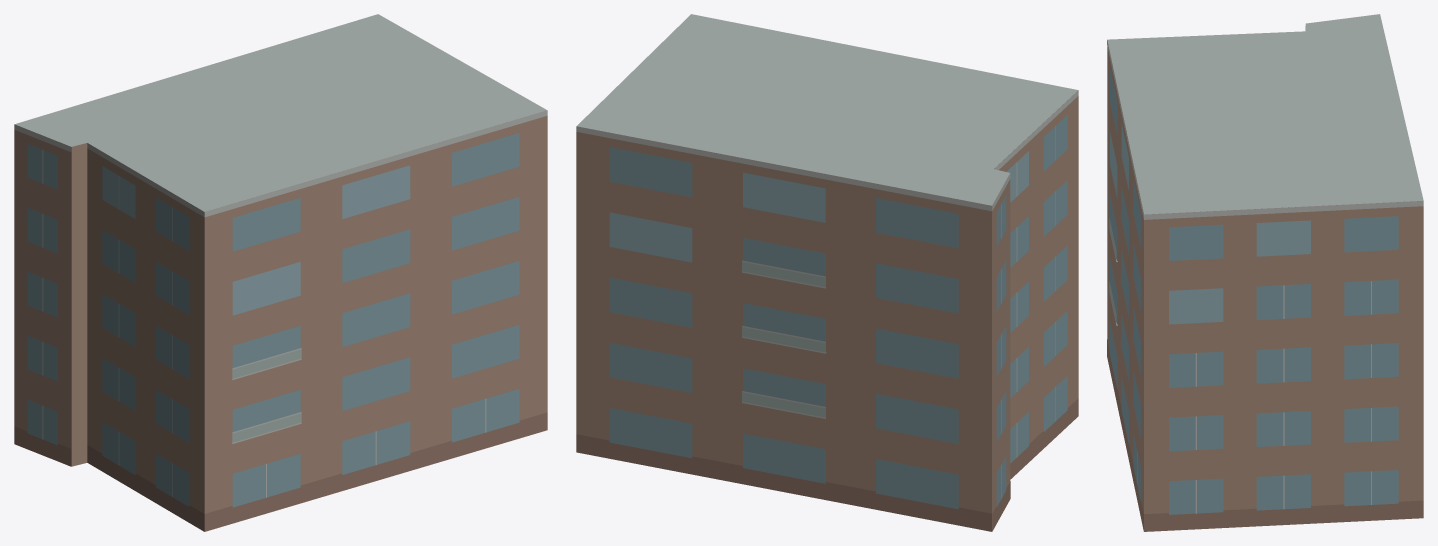
Rendered from survey-upis-33036821.glb.
The picture shows the model from 3 angles, left to right: view 1: azimuth 30°, elevation 25°; view 2: azimuth 150°, elevation 25°; view 3: azimuth 270°, elevation 25°; orthographic projection. The views are drawn at different scales.
Visible parts, largest first — view 1: survey-upis-33036821.tmp; view 2: survey-upis-33036821.tmp; view 3: survey-upis-33036821.tmp.
Part boxes in pixels (x1,y1,x2,y2): survey-upis-33036821.tmp: (14,14,547,531); survey-upis-33036821.tmp: (576,14,1078,531); survey-upis-33036821.tmp: (1107,14,1423,531).
Size of the model in its own units: 19.52 by 14.4 by 13.03.
